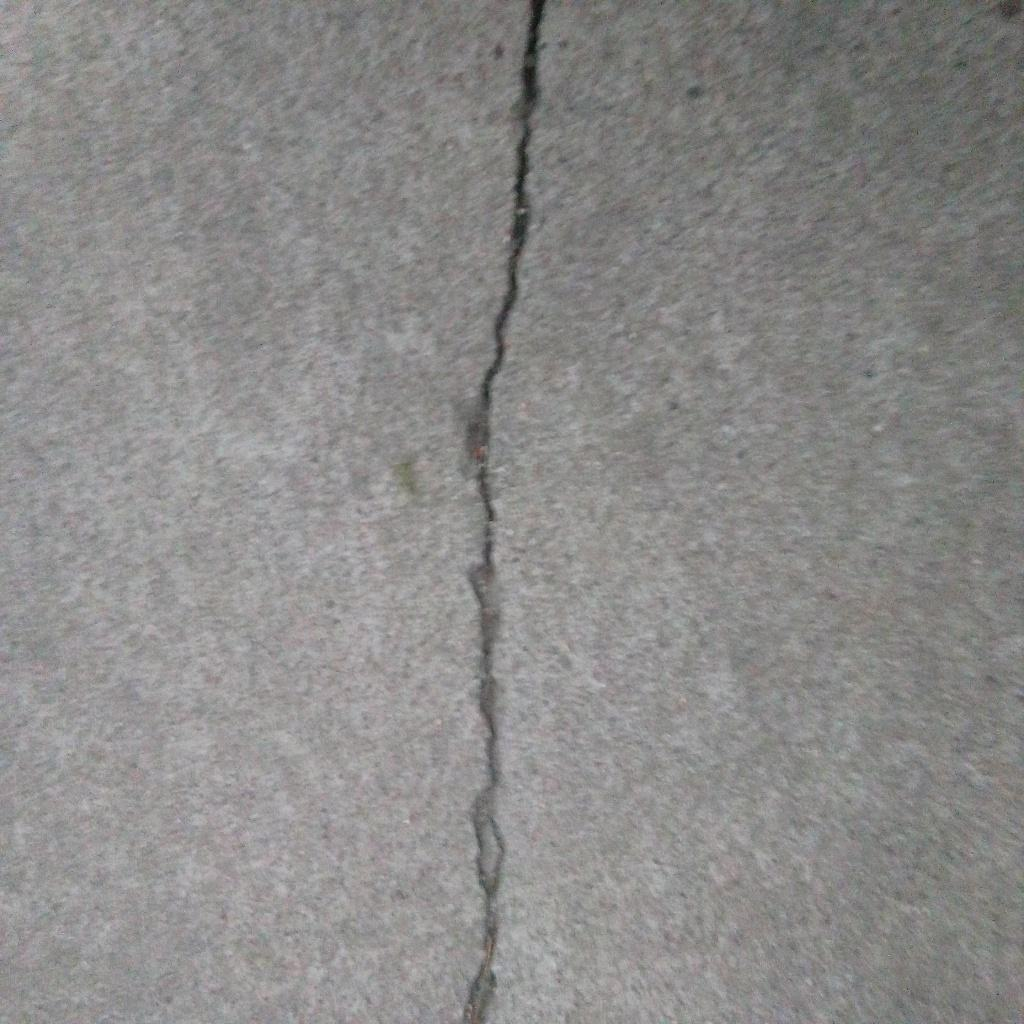Crack: (459, 1, 546, 1024)
